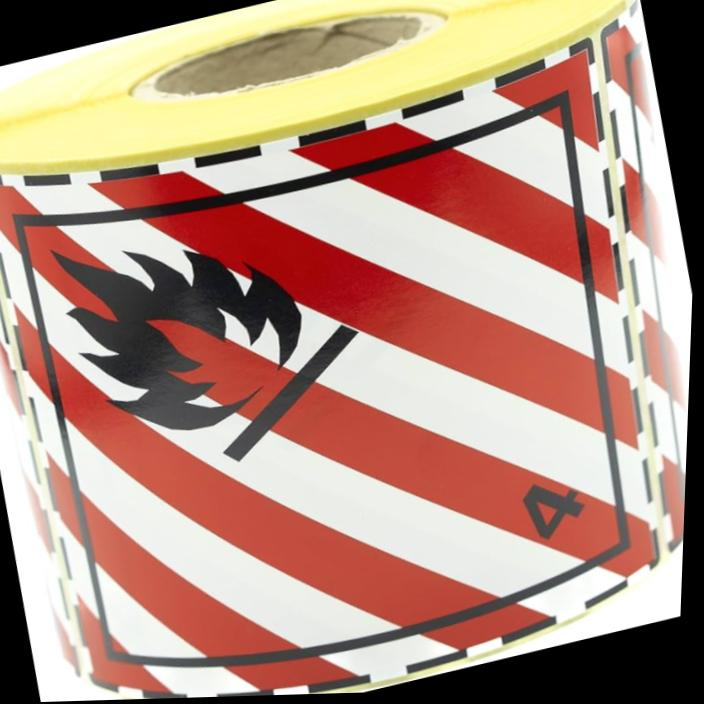chair: (0, 8, 703, 704)
